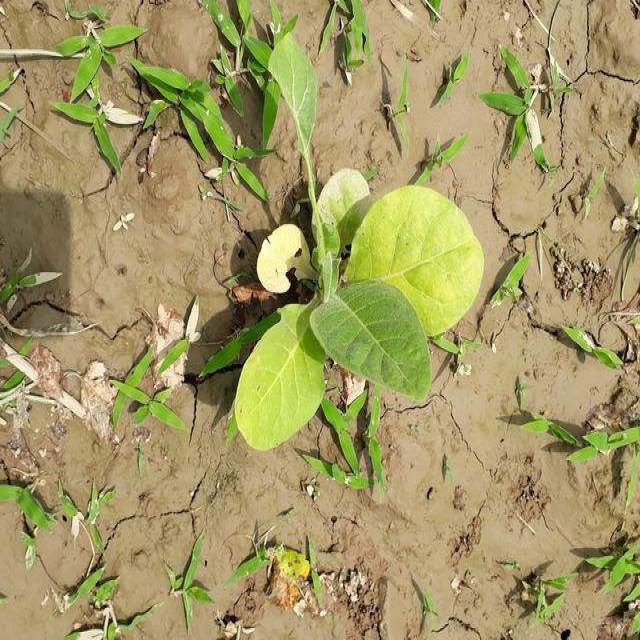crop: (226, 32, 489, 454)
